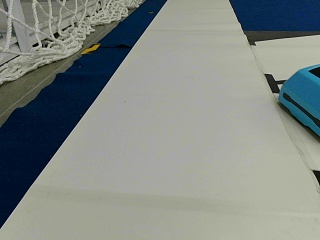car: (277, 62, 319, 137)
